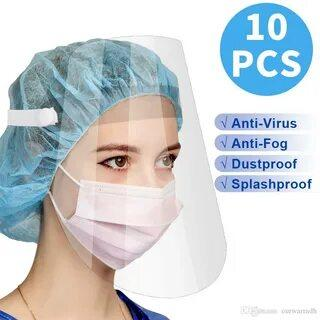hairnet: (0, 17, 190, 251)
mask: (55, 172, 207, 293)
